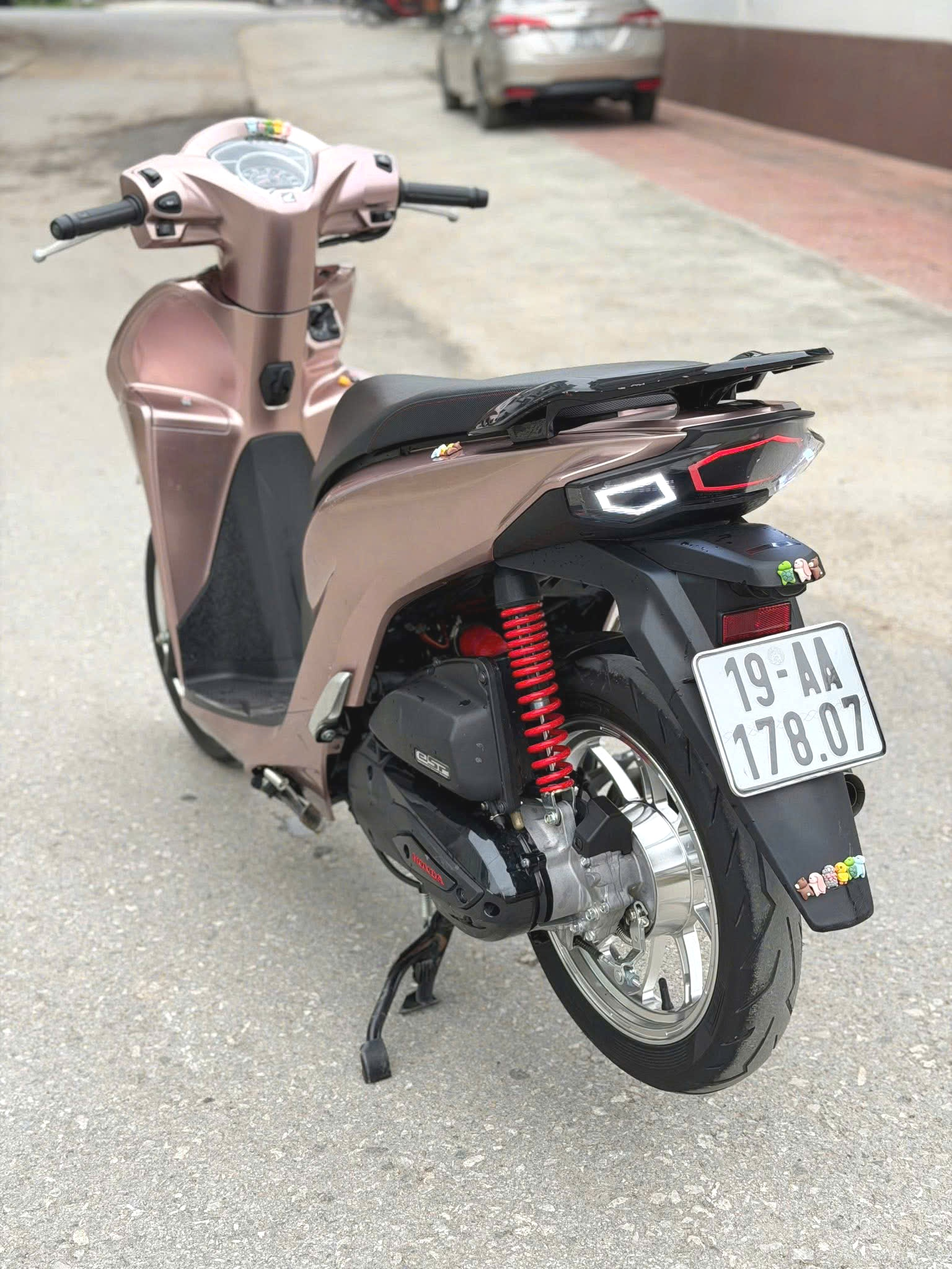Bien-so: (672, 565, 882, 753)
